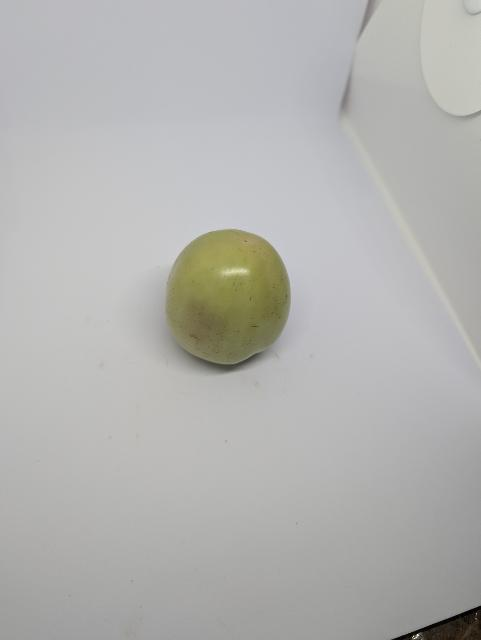green: (156, 220, 316, 375)
